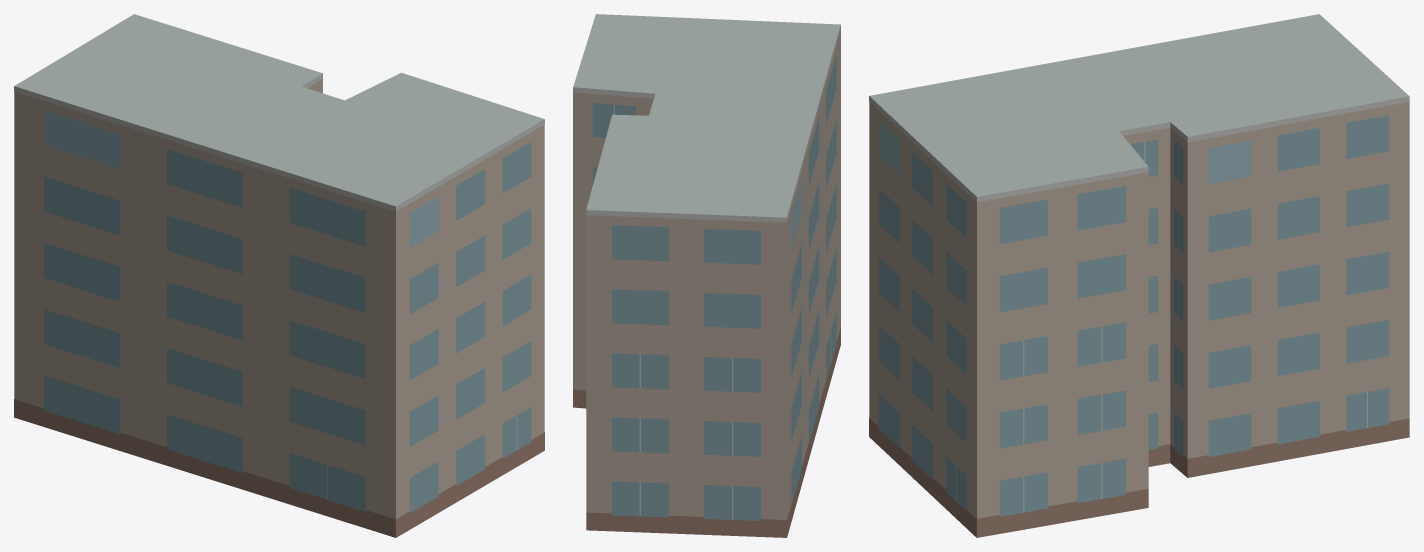
File: survey-upis-32595217.glb
The picture shows the model from 3 angles, left to right: view 1: azimuth 30°, elevation 25°; view 2: azimuth 150°, elevation 25°; view 3: azimuth 270°, elevation 25°; orthographic projection. The views are drawn at different scales.
Parts seen in each view (by area): view 1: survey-upis-32595217.tmp; view 2: survey-upis-32595217.tmp; view 3: survey-upis-32595217.tmp.
Part boxes in pixels (bbox=[...]): survey-upis-32595217.tmp: bbox=[14, 14, 544, 537]; survey-upis-32595217.tmp: bbox=[573, 14, 840, 537]; survey-upis-32595217.tmp: bbox=[869, 14, 1409, 537].
Size of the model in its own units: 17.55 by 15.25 by 21.92.
